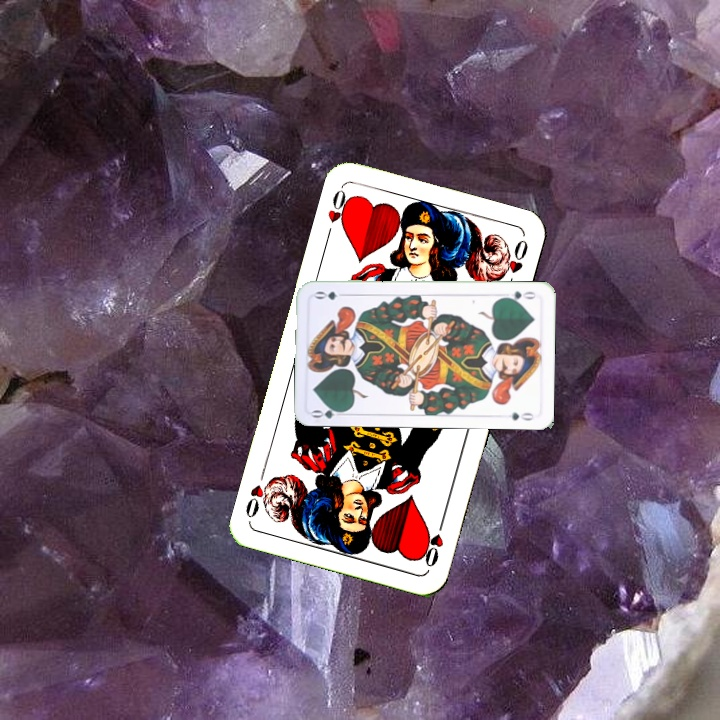GO: (308, 402, 349, 421), (499, 287, 538, 304)
HO: (322, 184, 355, 242), (420, 513, 447, 570)
